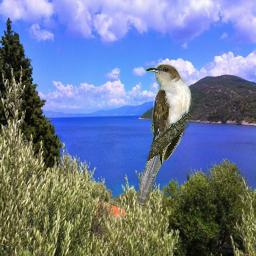Cuckoo: (136, 64, 193, 205)
